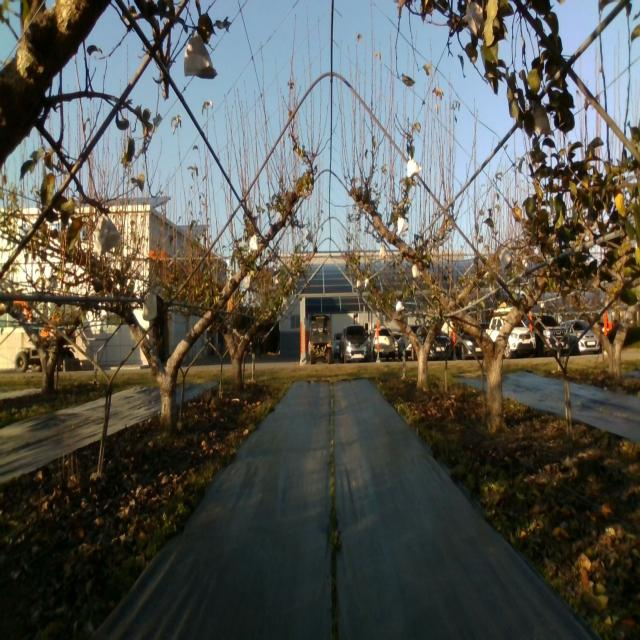pearbags: (184, 28, 216, 82), (92, 215, 120, 255), (530, 103, 551, 136), (466, 1, 484, 36), (407, 154, 422, 178), (501, 250, 514, 273)
